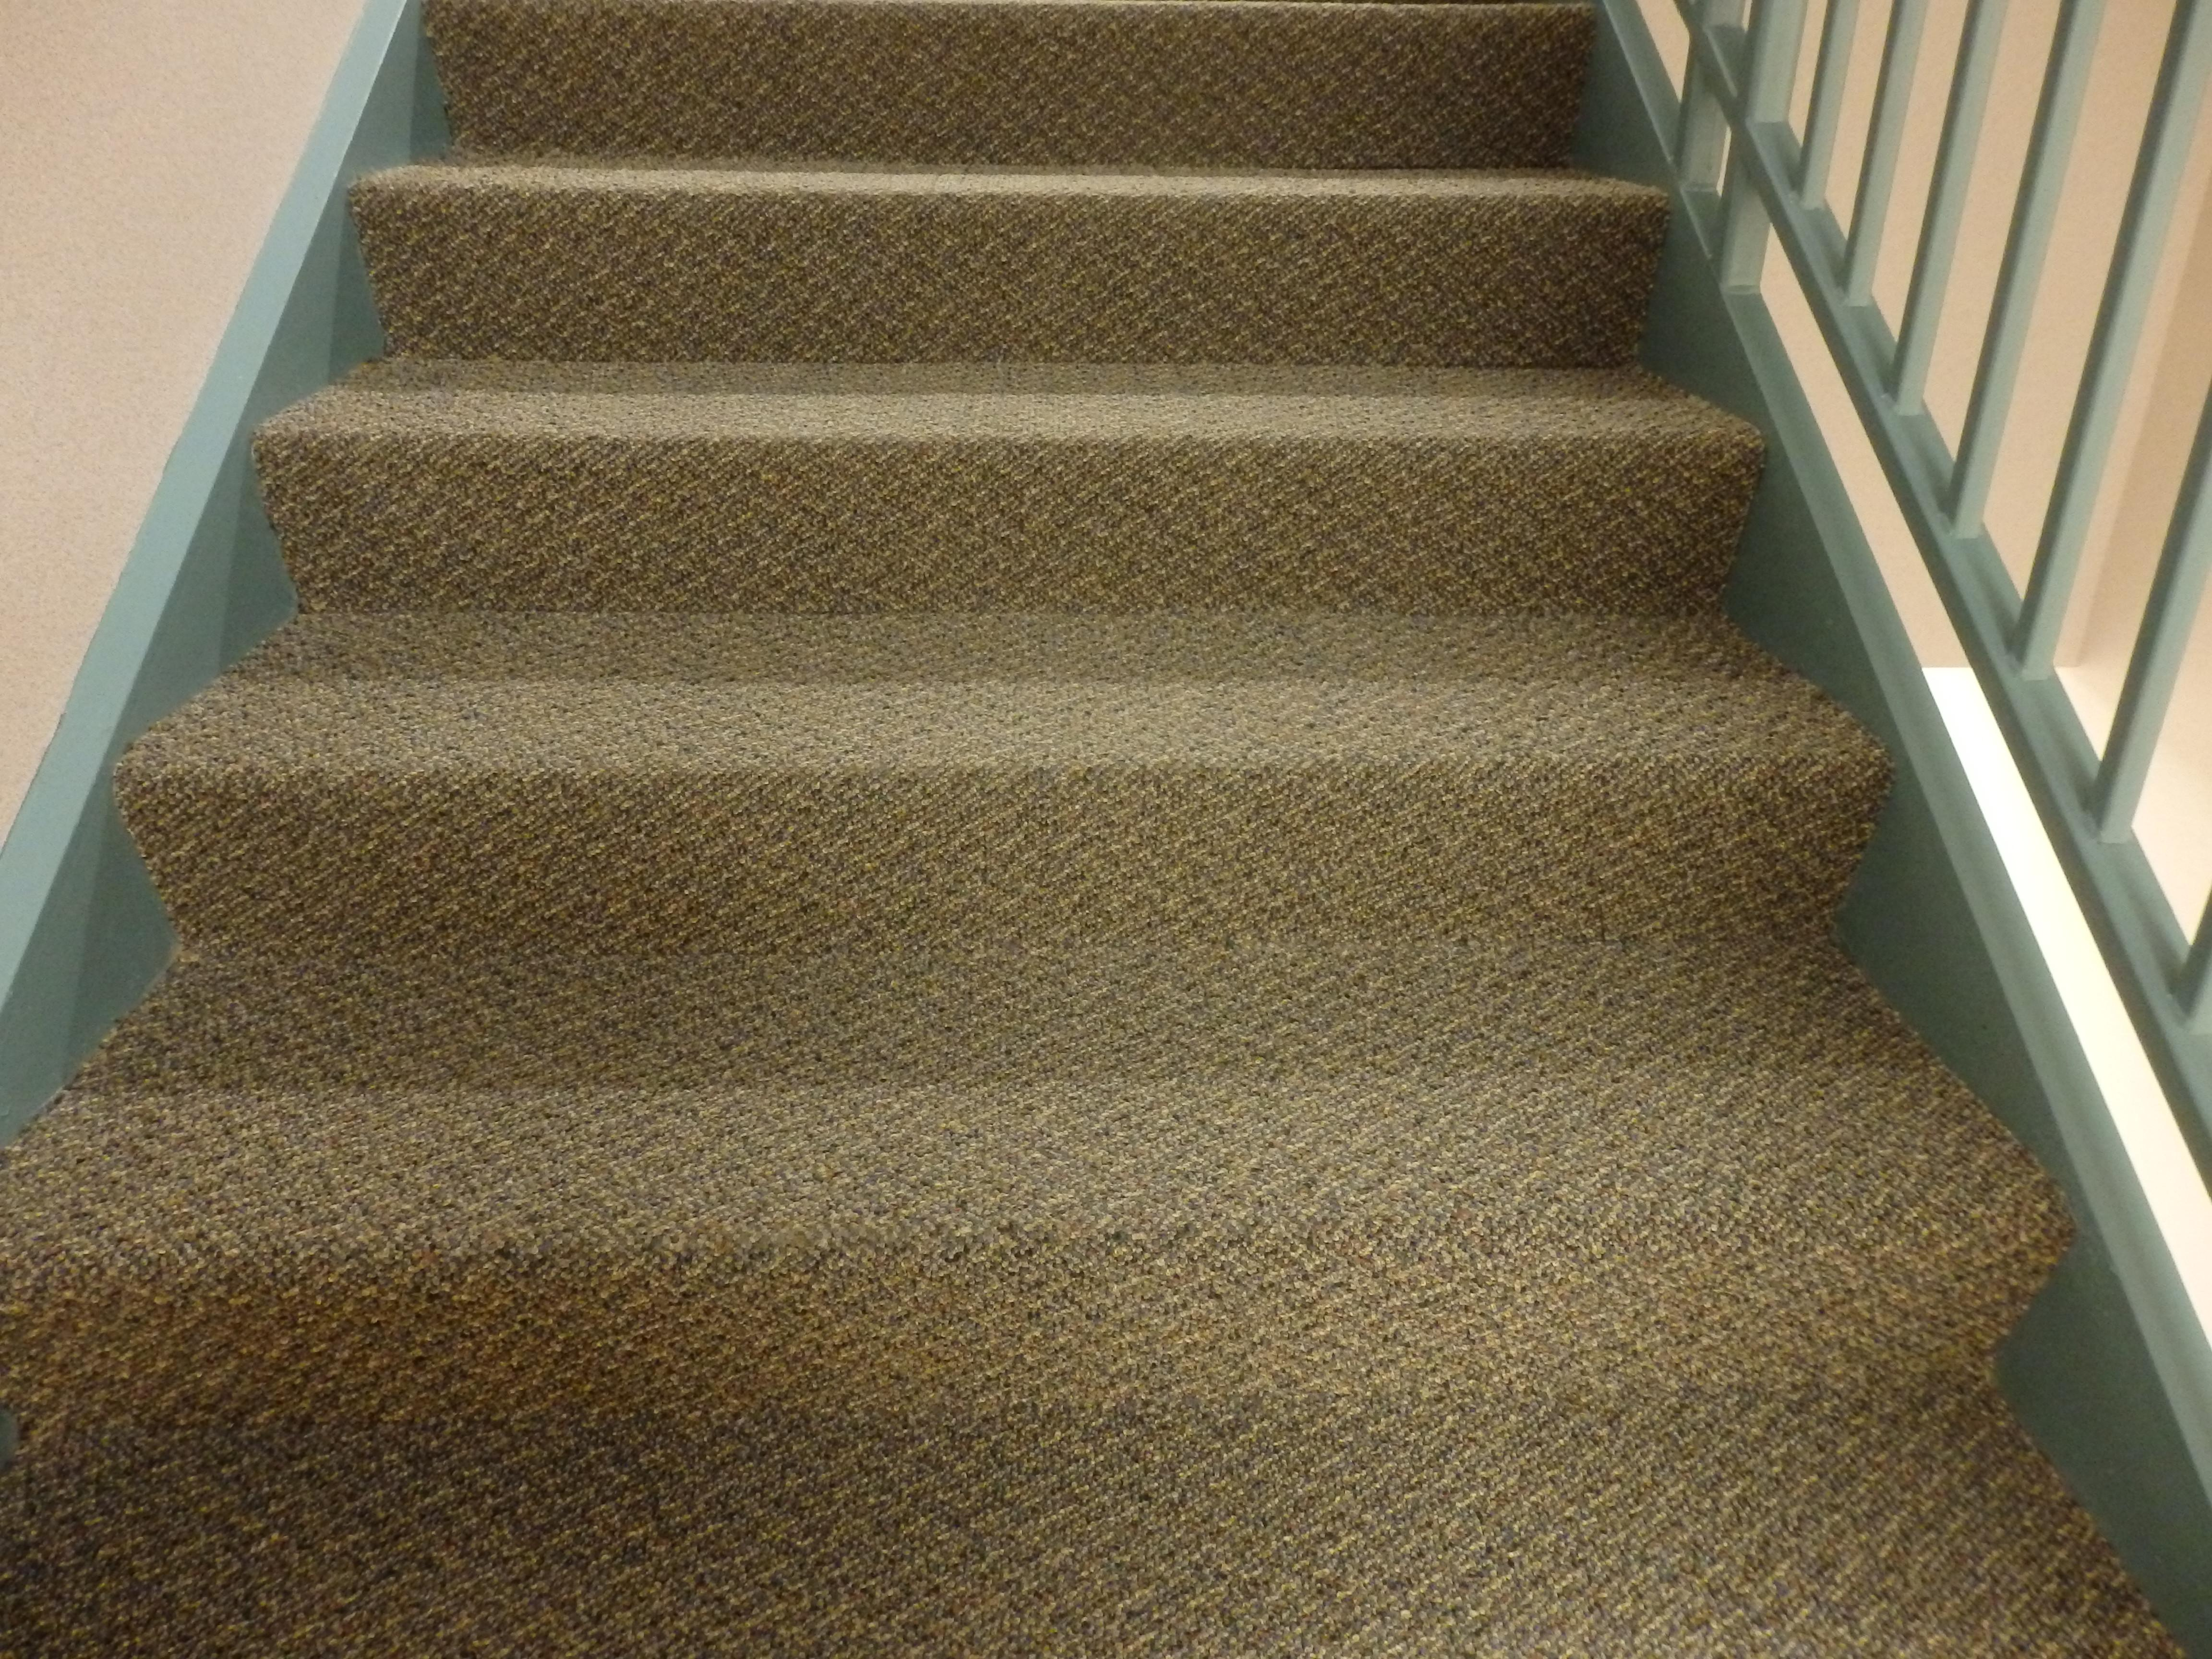stairs_up: (209, 2, 1968, 1471)
